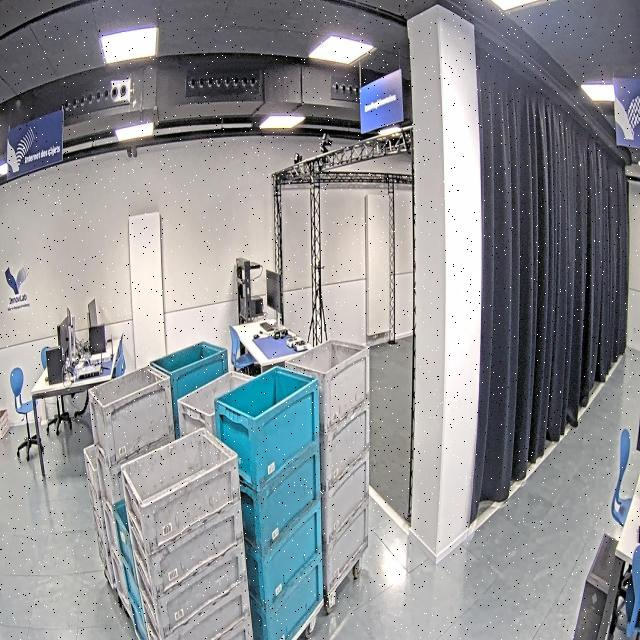Box3G: (118, 423, 256, 640), (178, 368, 274, 628)
Box4G: (282, 333, 372, 598), (149, 336, 233, 564)
Box8G: (84, 430, 163, 590)
BoxB4: (212, 360, 326, 640), (87, 361, 181, 623)
BoxB8: (112, 480, 214, 640)
